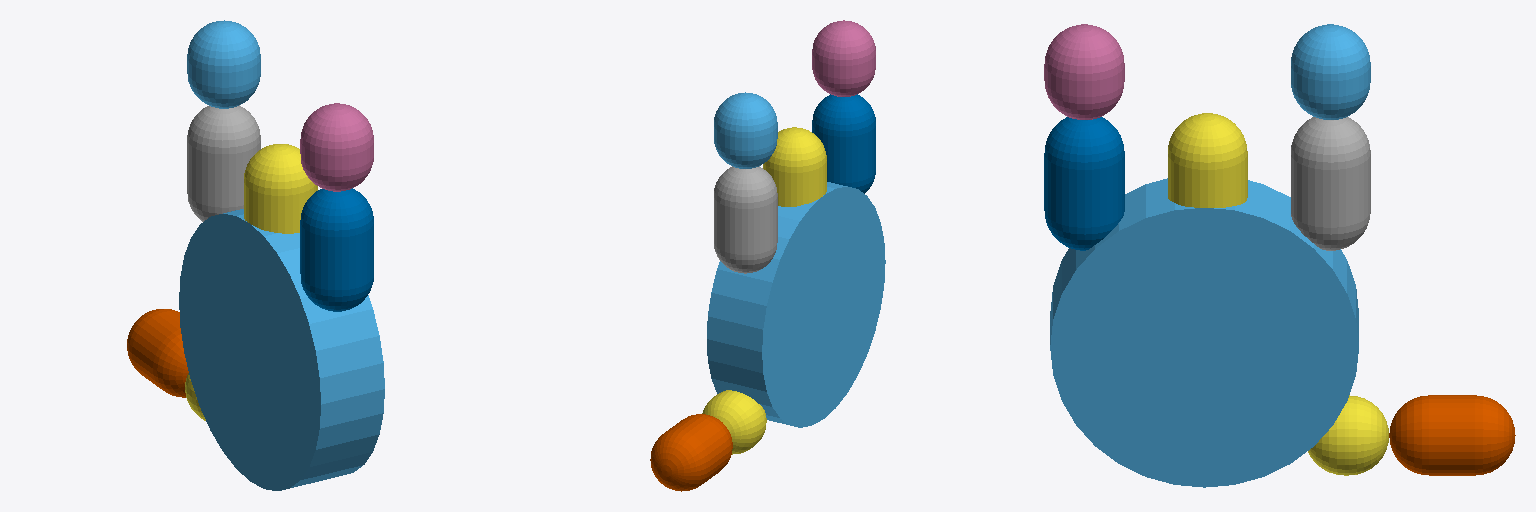
robot.urdf — DexterousHand:
<?xml version="1.0"?>
<robot name="DexterousHand">


    <link name="world"/>
    <joint name="world_to_palm" type="fixed">
        <parent link="world"/>
        <child link="palm"/>
        <origin xyz="0 0 0" rpy="0 0 0"/>
    </joint>
    <link name="palm">
        <inertial>
            <origin xyz="0 0 0.057" rpy="0 0 0"/>
            <mass value="0.30212892864"/>
            <inertia ixx="0.00049080844457568" ixy="0.0" ixz="0.0" iyy="0.00026746366246427523" iyz="0.0" izz="0.00026746366246427523"/>
        </inertial>
        <visual>
            <origin xyz="0 0 0.057" rpy="1.5708 0 1.5708"/>
            <geometry>
                <cylinder radius="0.057" length="0.0296"/>
            </geometry>
            <material name="default"/>
        </visual>
        <collision>
            <origin xyz="0 0 0.057" rpy="1.5708 0 1.5708"/>
            <geometry>
                <cylinder radius="0.057" length="0.0296"/>
            </geometry>
        </collision>
    </link>

    
    <joint name="thumb_joint1" type="revolute">
        <parent link="palm"/>
        <child link="thumb_base"/>
        <origin xyz="0.0029 0.0368 0.0157" rpy="-1.5708 -1.5708 0.0"/>
        <axis xyz="-1 0 0"/>
        <limit lower="-0.349" upper="2.094" effort="1.0" velocity="1.0"/>
    </joint>

    <link name="thumb_base"></link>

    <joint name="thumb_joint2" type="revolute">
        <parent link="thumb_base"/>
        <child link="thumb_proximal"/>
        <origin xyz="0.0 0.0 0.0" rpy="0.0 0.0 0.0"/>
        <axis xyz="0 0 1"/>
        <limit lower="-0.47" upper="2.443" effort="1.0" velocity="1.0"/>
    </joint>

    <link name="thumb_proximal">
        <inertial>
            <origin xyz="0 0 0.01565" rpy="0 0 0"/>
            <mass value="0.021538658803200002"/>
            <inertia ixx="2.9378910096388167e-06" ixy="0.0" ixz="0.0" 
            iyy="2.9378910096388167e-06" iyz="0.0" izz="2.358913912126464e-06"/>
        </inertial>
        <visual>
            <origin xyz="0 0 0.01565" rpy="0 0 0"/>
            <geometry>
                <cylinder radius="0.0148" length="0.0017000000000000001"/>
            </geometry>
            <material name="default"/>
        </visual>
        <visual>
            <origin xyz="0 0 0.0148" rpy="0 0 0"/>
            <geometry>
                <sphere radius="0.0148"/>
            </geometry>
            <material name="default"/>
        </visual>
        <visual>
            <origin xyz="0 0 0.0165" rpy="0 0 0"/>
            <geometry>
                <sphere radius="0.0148"/>
            </geometry>
            <material name="default"/>
        </visual>
        <collision>
            <origin xyz="0 0 0.01565" rpy="0 0 0"/>
            <geometry>
                <cylinder radius="0.0148" length="0.0017000000000000001"/>
            </geometry>
        </collision>
        <collision>
            <origin xyz="0 0 0.0148" rpy="0 0 0"/>
            <geometry>
                <sphere radius="0.0148"/>
            </geometry>
        </collision>
        <collision>
            <origin xyz="0 0 0.0165" rpy="0 0 0"/>
            <geometry>
                <sphere radius="0.0148"/>
            </geometry>
        </collision>
    </link>

    <joint name="thumb_joint3" type="revolute">
        <parent link="thumb_proximal"/>
        <child link="thumb_knuckle"/>
        <origin xyz="0.0 0.0 0.0313" rpy="0.0 0.0 0.0"/>
        <axis xyz="1 0 0"/>
        <limit lower="0.0" upper="0.0" effort="1.0" velocity="1.0"/>
    </joint>

    <link name="thumb_knuckle"></link>

    <joint name="thumb_joint4" type="revolute">
        <parent link="thumb_knuckle"/>
        <child link="thumb_middle"/>
        <origin xyz="0 0 0" rpy="0 0 0"/> 
        <axis xyz="0 1 0"/>
        <limit lower="-1.2" upper="1.9" effort="1.0" velocity="1.0"/>
    </joint>

    <link name="thumb_middle">
        <inertial>
            <origin xyz="0 0 0.0233" rpy="0 0 0"/>
            <mass value="0.032067140582400004"/>
            <inertia ixx="7.5589732685519385e-06" ixy="0.0" ixz="0.0" 
            iyy="7.5589732685519385e-06" iyz="0.0" izz="3.5119932365844485e-06"/>
        </inertial>
        <visual>
            <origin xyz="0 0 0.0233" rpy="0 0 0"/>
            <geometry>
                <cylinder radius="0.0148" length="0.017"/>
            </geometry>
            <material name="default"/>
        </visual>
        <visual>
            <origin xyz="0 0 0.0148" rpy="0 0 0"/>
            <geometry>
                <sphere radius="0.0148"/>
            </geometry>
            <material name="default"/>
        </visual>
        <visual>
            <origin xyz="0 0 0.0318" rpy="0 0 0"/>
            <geometry>
                <sphere radius="0.0148"/>
            </geometry>
            <material name="default"/>
        </visual>
        <collision>
            <origin xyz="0 0 0.0233" rpy="0 0 0"/>
            <geometry>
                <cylinder radius="0.0148" length="0.017"/>
            </geometry>
        </collision>
        <collision>
            <origin xyz="0 0 0.0148" rpy="0 0 0"/>
            <geometry>
                <sphere radius="0.0148"/>
            </geometry>
        </collision>
        <collision>
            <origin xyz="0 0 0.0318" rpy="0 0 0"/>
            <geometry>
                <sphere radius="0.0148"/>
            </geometry>
        </collision>
    </link>

    <joint name="thumb_joint5" type="revolute">
        <parent link="thumb_middle"/>
        <child link="thumb_distal"/>
        <origin xyz="0 0 0.0466" rpy="0 0 0"/> 
        <axis xyz="0 1 0"/>
        <limit lower="0.0" upper="0.0" effort="1.0" velocity="1.0"/>
    </joint>

    <link name="thumb_distal">
    </link>

    
    <joint name="index_joint1" type="revolute">
        <parent link="palm"/>
        <child link="index_proximal"/>
        <origin xyz="0.0 0.0465 0.091" rpy="0.0 0.0 0.0"/>
        <axis xyz="0 1 0"/>
        <limit lower="-0.314" upper="2.23" effort="1.0" velocity="1.0"/>
    </joint>

    <link name="index_proximal">
        <inertial>
            <origin xyz="0 0 0.02655" rpy="0 0 0"/>
            <mass value="0.036540024998400006"/>
            <inertia ixx="1.058665009272394e-05" ixy="0.0" ixz="0.0" 
            iyy="1.058665009272394e-05" iyz="0.0" izz="4.001863537824769e-06"/>
        </inertial>
        <visual>
            <origin xyz="0 0 0.02655" rpy="0 0 0"/>
            <geometry>
                <cylinder radius="0.0148" length="0.0235"/>
            </geometry>
            <material name="default"/>
        </visual>
        <visual>
            <origin xyz="0 0 0.0148" rpy="0 0 0"/>
            <geometry>
                <sphere radius="0.0148"/>
            </geometry>
            <material name="default"/>
        </visual>
        <visual>
            <origin xyz="0 0 0.0383" rpy="0 0 0"/>
            <geometry>
                <sphere radius="0.0148"/>
            </geometry>
            <material name="default"/>
        </visual>
        <collision>
            <origin xyz="0 0 0.02655" rpy="0 0 0"/>
            <geometry>
                <cylinder radius="0.0148" length="0.0235"/>
            </geometry>
        </collision>
        <collision>
            <origin xyz="0 0 0.0148" rpy="0 0 0"/>
            <geometry>
                <sphere radius="0.0148"/>
            </geometry>
        </collision>
        <collision>
            <origin xyz="0 0 0.0383" rpy="0 0 0"/>
            <geometry>
                <sphere radius="0.0148"/>
            </geometry>
        </collision>
    </link>

    <joint name="index_joint2" type="revolute">
        <parent link="index_proximal"/>
        <child link="index_dummy"/>
        <origin xyz="0.0 0.0 0.038" rpy="0.0 0.0 0.0"/>
        <axis xyz="1 0 0"/>
        <limit lower="-1.047" upper="1.047" effort="1.0" velocity="1.0"/>
    </joint>

    <link name="index_dummy"></link>

    <joint name="index_joint3" type="revolute">
        <parent link="index_dummy"/>
        <child link="index_middle"/>
        <origin xyz="0 0 0.015100000000000002" rpy="0 0 0"/>
        <axis xyz="0 1 0"/>
        <limit lower="-0.506" upper="1.885" effort="1.0" velocity="1.0"/>
    </joint>

    <link name="index_middle">
        <inertial>
            <origin xyz="0 0 0.01805" rpy="0 0 0"/>
            <mass value="0.0248417119104"/>
            <inertia ixx="4.058162759109537e-06" ixy="0.0" ixz="0.0" 
            iyy="4.058162759109537e-06" iyz="0.0" izz="2.7206642884270085e-06"/>
        </inertial>
        <visual>
            <origin xyz="0 0 0.01805" rpy="0 0 0"/>
            <geometry>
                <cylinder radius="0.0148" length="0.006499999999999999"/>
            </geometry>
            <material name="default"/>
        </visual>
        <visual>
            <origin xyz="0 0 0.0148" rpy="0 0 0"/>
            <geometry>
                <sphere radius="0.0148"/>
            </geometry>
            <material name="default"/>
        </visual>
        <visual>
            <origin xyz="0 0 0.0213" rpy="0 0 0"/>
            <geometry>
                <sphere radius="0.0148"/>
            </geometry>
            <material name="default"/>
        </visual>
        <collision>
            <origin xyz="0 0 0.01805" rpy="0 0 0"/>
            <geometry>
                <cylinder radius="0.0148" length="0.006499999999999999"/>
            </geometry>
        </collision>
        <collision>
            <origin xyz="0 0 0.0148" rpy="0 0 0"/>
            <geometry>
                <sphere radius="0.0148"/>
            </geometry>
        </collision>
        <collision>
            <origin xyz="0 0 0.0213" rpy="0 0 0"/>
            <geometry>
                <sphere radius="0.0148"/>
            </geometry>
        </collision>
    </link>

    <joint name="index_joint4" type="revolute">
        <parent link="index_middle"/>
        <child link="index_distal"/>
        <origin xyz="0 0 0.0361" rpy="0 0 0"/> 
        <axis xyz="0 1 0"/>
        <limit lower="0.0" upper="0.0" effort="1.0" velocity="1.0"/>
    </joint>

    <link name="index_distal">
    </link>

    
    <joint name="middle_joint1" type="revolute">
        <parent link="palm"/>
        <child link="middle_proximal"/>
        <origin xyz="0.0 0.0011 0.091" rpy="0.0 0.0 0.0"/>
        <axis xyz="0 1 0"/>
        <limit lower="-0.314" upper="2.23" effort="1.0" velocity="1.0"/>
    </joint>

    <link name="middle_proximal">
        <inertial>
            <origin xyz="0 0 0.02655" rpy="0 0 0"/>
            <mass value="0.036540024998400006"/>
            <inertia ixx="1.058665009272394e-05" ixy="0.0" ixz="0.0" 
            iyy="1.058665009272394e-05" iyz="0.0" izz="4.001863537824769e-06"/>
        </inertial>
        <visual>
            <origin xyz="0 0 0.02655" rpy="0 0 0"/>
            <geometry>
                <cylinder radius="0.0148" length="0.0235"/>
            </geometry>
            <material name="default"/>
        </visual>
        <visual>
            <origin xyz="0 0 0.0148" rpy="0 0 0"/>
            <geometry>
                <sphere radius="0.0148"/>
            </geometry>
            <material name="default"/>
        </visual>
        <visual>
            <origin xyz="0 0 0.0383" rpy="0 0 0"/>
            <geometry>
                <sphere radius="0.0148"/>
            </geometry>
            <material name="default"/>
        </visual>
        <collision>
            <origin xyz="0 0 0.02655" rpy="0 0 0"/>
            <geometry>
                <cylinder radius="0.0148" length="0.0235"/>
            </geometry>
        </collision>
        <collision>
            <origin xyz="0 0 0.0148" rpy="0 0 0"/>
            <geometry>
                <sphere radius="0.0148"/>
            </geometry>
        </collision>
        <collision>
            <origin xyz="0 0 0.0383" rpy="0 0 0"/>
            <geometry>
                <sphere radius="0.0148"/>
            </geometry>
        </collision>
    </link>

    <joint name="middle_joint2" type="revolute">
        <parent link="middle_proximal"/>
        <child link="middle_dummy"/>
        <origin xyz="0.0 0.0 0.038" rpy="0.0 0.0 0.0"/>
        <axis xyz="0 1 0"/>
        <limit lower="0.0" upper="0.0" effort="1.0" velocity="1.0"/>
    </joint>

    <link name="middle_dummy"></link>

    <joint name="middle_joint3" type="revolute">
        <parent link="middle_dummy"/>
        <child link="middle_middle"/>
        <origin xyz="0 0 0.015100000000000002" rpy="0 0 0"/>
        <axis xyz="0 1 0"/>
        <limit lower="0.0" upper="0.0" effort="1.0" velocity="1.0"/>
    </joint>

    <link name="middle_middle">
    </link>

    <joint name="middle_joint4" type="revolute">
        <parent link="middle_middle"/>
        <child link="middle_distal"/>
        <origin xyz="0 0 0" rpy="0 0 0"/> 
        <axis xyz="0 1 0"/>
        <limit lower="0.0" upper="0.0" effort="1.0" velocity="1.0"/>
    </joint>

    <link name="middle_distal">
    </link>

    
    <joint name="ring_joint1" type="revolute">
        <parent link="palm"/>
        <child link="ring_proximal"/>
        <origin xyz="0.0 0.0 0.0" rpy="0.0 0.0 0.0"/>
        <axis xyz="1 0 0"/>
        <limit lower="0.0" upper="0.0" effort="1.0" velocity="1.0"/>
    </joint>

    <link name="ring_proximal">
    </link>

    <joint name="ring_joint2" type="revolute">
        <parent link="ring_proximal"/>
        <child link="ring_dummy"/>
        <origin xyz="0.0 0.0 0.0" rpy="0.0 0.0 0.0"/>
        <axis xyz="0 1 0"/>
        <limit lower="0.0" upper="0.0" effort="1.0" velocity="1.0"/>
    </joint>

    <link name="ring_dummy"></link>

    <joint name="ring_joint3" type="revolute">
        <parent link="ring_dummy"/>
        <child link="ring_middle"/>
        <origin xyz="0 0 0" rpy="0 0 0"/>
        <axis xyz="0 1 0"/>
        <limit lower="0.0" upper="0.0" effort="1.0" velocity="1.0"/>
    </joint>

    <link name="ring_middle">
    </link>

    <joint name="ring_joint4" type="revolute">
        <parent link="ring_middle"/>
        <child link="ring_distal"/>
        <origin xyz="0 0 0" rpy="0 0 0"/> 
        <axis xyz="0 1 0"/>
        <limit lower="0.0" upper="0.0" effort="1.0" velocity="1.0"/>
    </joint>

    <link name="ring_distal">
    </link>

    
    <joint name="little_joint0" type="revolute">
        <parent link="palm"/>
        <child link="little_base"/>
        <origin xyz="0.0 0.0 0.0" rpy="0.0 0.0 0.0"/>
        <axis xyz="0 1 0"/>
        <limit lower="0.0" upper="0.0" effort="1.0" velocity="1.0"/>
    </joint>

    <link name="little_base"></link>

    <joint name="little_joint1" type="revolute">
        <parent link="little_base"/>
        <child link="little_proximal"/>
        <origin xyz="0.0 -0.0443 0.091" rpy="-0.0 -0.0 -0.0"/>
        <axis xyz="0 1 0"/>
        <limit lower="-0.314" upper="2.23" effort="1.0" velocity="1.0"/>
    </joint>

    <link name="little_proximal">
        <inertial>
            <origin xyz="0 0 0.02655" rpy="0 0 0"/>
            <mass value="0.036540024998400006"/>
            <inertia ixx="1.058665009272394e-05" ixy="0.0" ixz="0.0" 
            iyy="1.058665009272394e-05" iyz="0.0" izz="4.001863537824769e-06"/>
        </inertial>
        <visual>
            <origin xyz="0 0 0.02655" rpy="0 0 0"/>
            <geometry>
                <cylinder radius="0.0148" length="0.0235"/>
            </geometry>
            <material name="default"/>
        </visual>
        <visual>
            <origin xyz="0 0 0.0148" rpy="0 0 0"/>
            <geometry>
                <sphere radius="0.0148"/>
            </geometry>
            <material name="default"/>
        </visual>
        <visual>
            <origin xyz="0 0 0.0383" rpy="0 0 0"/>
            <geometry>
                <sphere radius="0.0148"/>
            </geometry>
            <material name="default"/>
        </visual>
        <collision>
            <origin xyz="0 0 0.02655" rpy="0 0 0"/>
            <geometry>
                <cylinder radius="0.0148" length="0.0235"/>
            </geometry>
        </collision>
        <collision>
            <origin xyz="0 0 0.0148" rpy="0 0 0"/>
            <geometry>
                <sphere radius="0.0148"/>
            </geometry>
        </collision>
        <collision>
            <origin xyz="0 0 0.0383" rpy="0 0 0"/>
            <geometry>
                <sphere radius="0.0148"/>
            </geometry>
        </collision>
    </link>

    <joint name="little_joint2" type="revolute">
        <parent link="little_proximal"/>
        <child link="little_dummy"/>
        <origin xyz="0.0 0.0 0.038" rpy="0.0 0.0 0.0"/>
        <axis xyz="1 0 0"/>
        <limit lower="-1.047" upper="1.047" effort="1.0" velocity="1.0"/>
    </joint>

    <link name="little_dummy"></link>

    <joint name="little_joint3" type="revolute">
        <parent link="little_dummy"/>
        <child link="little_middle"/>
        <origin xyz="0 0 0.015100000000000002" rpy="0 0 0"/>
        <axis xyz="0 1 0"/>
        <limit lower="-0.506" upper="1.885" effort="1.0" velocity="1.0"/>
    </joint>

    <link name="little_middle">
        <inertial>
            <origin xyz="0 0 0.01805" rpy="0 0 0"/>
            <mass value="0.0248417119104"/>
            <inertia ixx="4.058162759109537e-06" ixy="0.0" ixz="0.0" 
            iyy="4.058162759109537e-06" iyz="0.0" izz="2.7206642884270085e-06"/>
        </inertial>
        <visual>
            <origin xyz="0 0 0.01805" rpy="0 0 0"/>
            <geometry>
                <cylinder radius="0.0148" length="0.006499999999999999"/>
            </geometry>
            <material name="default"/>
        </visual>
        <visual>
            <origin xyz="0 0 0.0148" rpy="0 0 0"/>
            <geometry>
                <sphere radius="0.0148"/>
            </geometry>
            <material name="default"/>
        </visual>
        <visual>
            <origin xyz="0 0 0.0213" rpy="0 0 0"/>
            <geometry>
                <sphere radius="0.0148"/>
            </geometry>
            <material name="default"/>
        </visual>
        <collision>
            <origin xyz="0 0 0.01805" rpy="0 0 0"/>
            <geometry>
                <cylinder radius="0.0148" length="0.006499999999999999"/>
            </geometry>
        </collision>
        <collision>
            <origin xyz="0 0 0.0148" rpy="0 0 0"/>
            <geometry>
                <sphere radius="0.0148"/>
            </geometry>
        </collision>
        <collision>
            <origin xyz="0 0 0.0213" rpy="0 0 0"/>
            <geometry>
                <sphere radius="0.0148"/>
            </geometry>
        </collision>
    </link>

    <joint name="little_joint4" type="revolute">
        <parent link="little_middle"/>
        <child link="little_distal"/>
        <origin xyz="0 0 0.0361" rpy="0 0 0"/>
        <axis xyz="0 1 0"/>
        <limit lower="0.0" upper="0.0" effort="1.0" velocity="1.0"/>
    </joint>

    <link name="little_distal">
    </link>

</robot>

--- Facts derived from the render (not from the file) ---
The picture shows the robot from 3 angles, left to right: view 1: azimuth 30°, elevation 25°; view 2: azimuth 150°, elevation 25°; view 3: azimuth 270°, elevation 25°; orthographic projection.
Robot: DexterousHand — 24 links, 23 joints (22 revolute, 1 fixed); root link world; default pose: all joints at 0.
Visible links, largest first — view 1: palm, little_proximal, index_proximal, little_middle, index_middle, middle_proximal, thumb_middle; view 2: palm, index_proximal, little_proximal, thumb_middle, little_middle, index_middle, middle_proximal, thumb_proximal; view 3: palm, index_proximal, little_proximal, thumb_middle, middle_proximal, little_middle, index_middle, thumb_proximal.
Link boxes in pixels (<box>): palm: <box>179,209,384,490</box>; little_proximal: <box>300,188,373,311</box>; index_proximal: <box>187,105,260,221</box>; little_middle: <box>300,103,373,191</box>; index_middle: <box>187,20,260,108</box>; middle_proximal: <box>244,144,317,233</box>; thumb_middle: <box>127,309,188,397</box>; palm: <box>707,182,885,427</box>; index_proximal: <box>714,166,777,273</box>; little_proximal: <box>812,94,875,193</box>; thumb_middle: <box>650,414,732,491</box>; little_middle: <box>812,20,875,96</box>; index_middle: <box>714,92,777,168</box>; middle_proximal: <box>763,127,826,206</box>; thumb_proximal: <box>702,390,766,454</box>; palm: <box>1050,178,1358,487</box>; index_proximal: <box>1291,117,1370,250</box>; little_proximal: <box>1044,117,1124,250</box>; thumb_middle: <box>1389,395,1515,475</box>; middle_proximal: <box>1168,113,1247,207</box>; little_middle: <box>1044,24,1124,119</box>; index_middle: <box>1291,24,1370,119</box>; thumb_proximal: <box>1308,395,1388,475</box>.
Size in the robot's own frame: 0.0325 by 0.1738 by 0.1802 metres.
Geometry: primitives only (box / cylinder / sphere), no mesh files.
